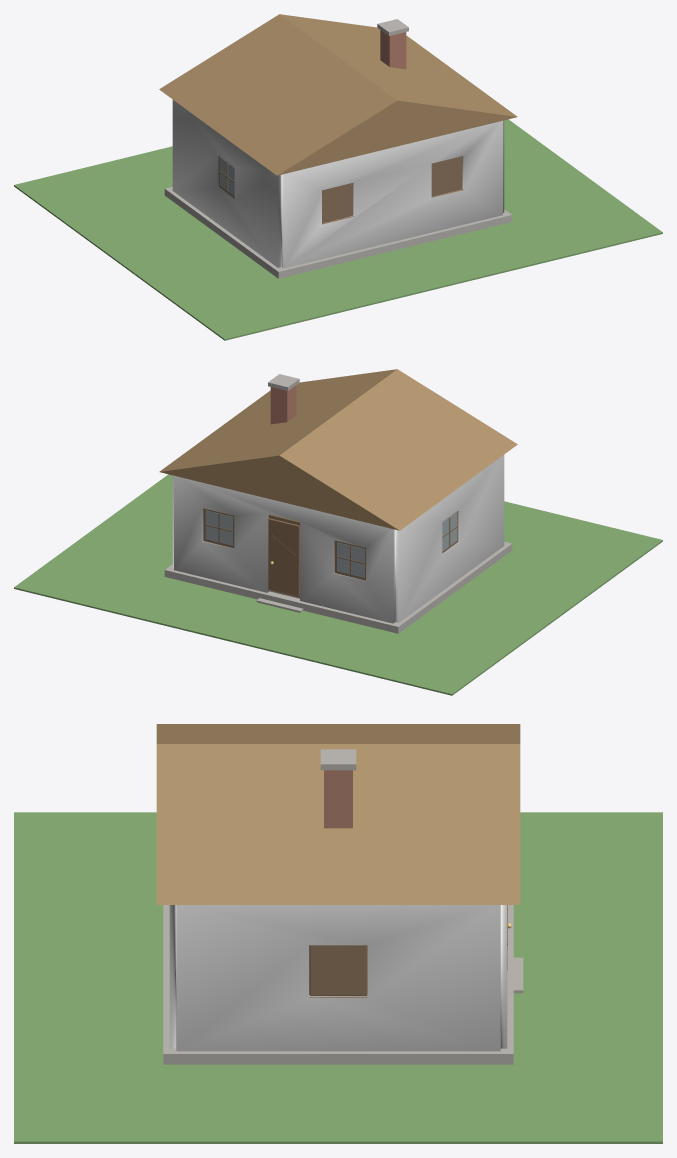
The model's file is cottage.glb.
3 views of the same model, one above another, from view 1: azimuth 30°, elevation 25°; view 2: azimuth 150°, elevation 25°; view 3: azimuth 270°, elevation 25° (orthographic). The views are drawn at different scales.
Visible parts, largest first — view 1: ground, roof, back_wall, left_wall, foundation, frame (×3), chimney; view 2: ground, roof, front_wall, left_wall, foundation, frame (×3), panel, glass (×2), chimney; view 3: ground, roof, right_wall, foundation, frame, chimney, front_wall, back_wall, chimney_cap.
Boxes of the visible parts, x1,y1,x2,y2 form: ground: (14, 119, 662, 340); roof: (159, 14, 517, 175); back_wall: (281, 120, 502, 268); left_wall: (172, 100, 281, 267); foundation: (164, 187, 512, 278); frame (×3): (218, 156, 462, 222); chimney: (380, 30, 406, 69); ground: (14, 474, 662, 695); roof: (159, 369, 517, 530); front_wall: (174, 475, 395, 623); left_wall: (395, 455, 504, 622); foundation: (164, 542, 512, 633); frame (×3): (203, 508, 458, 580); panel: (268, 518, 299, 596); glass (×2): (205, 510, 364, 577); chimney: (270, 385, 296, 424); ground: (14, 812, 662, 1143); roof: (156, 724, 520, 904); right_wall: (176, 905, 500, 1051); foundation: (163, 905, 513, 1064); frame: (309, 945, 367, 995); chimney: (324, 770, 352, 828); front_wall: (500, 905, 507, 1048); back_wall: (169, 905, 176, 1048); chimney_cap: (320, 749, 356, 770).
Size of the model in its own units: 12 by 4.48 by 10.
